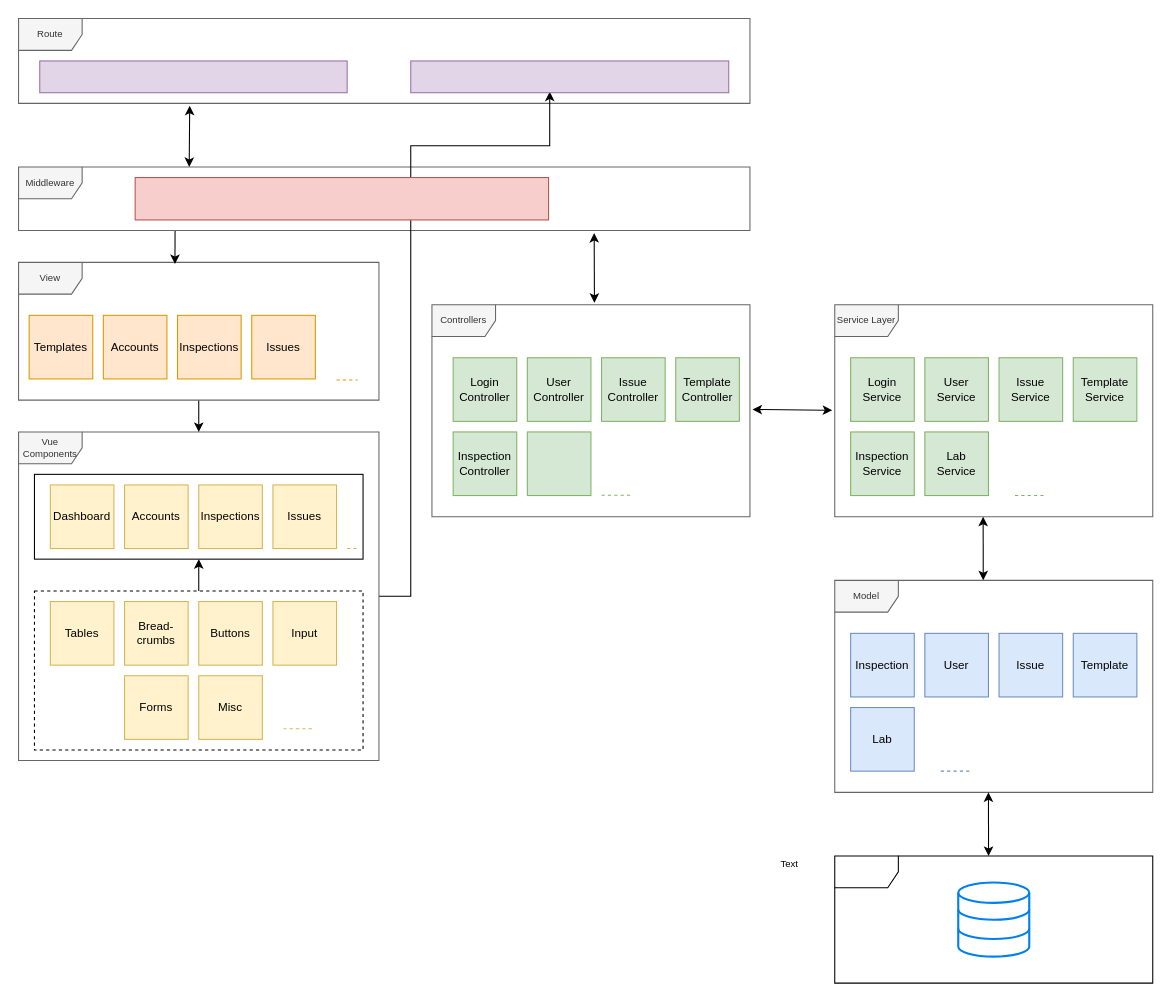
The diagram is 1171 pixels wide and 1002 high, and some of its shapes have lost their labels. Here are the shapes that lost their labels. From the top down, the centre of each, then its label:
At point (193, 76): "Web Routes".
At point (569, 76): "API Routes".
At point (341, 198): "Authorization/Authentication".
At point (558, 463): "Lab Controller".
At point (993, 919): "MySQL DB".
